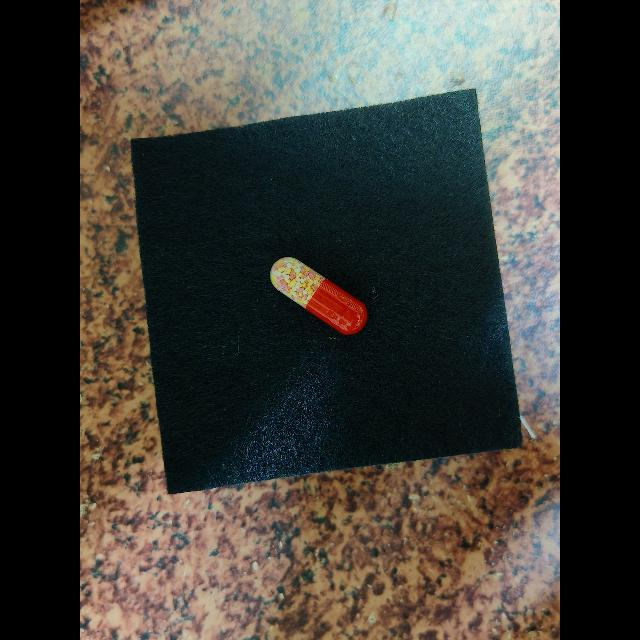Intact Capsule: (270, 257, 368, 335)
